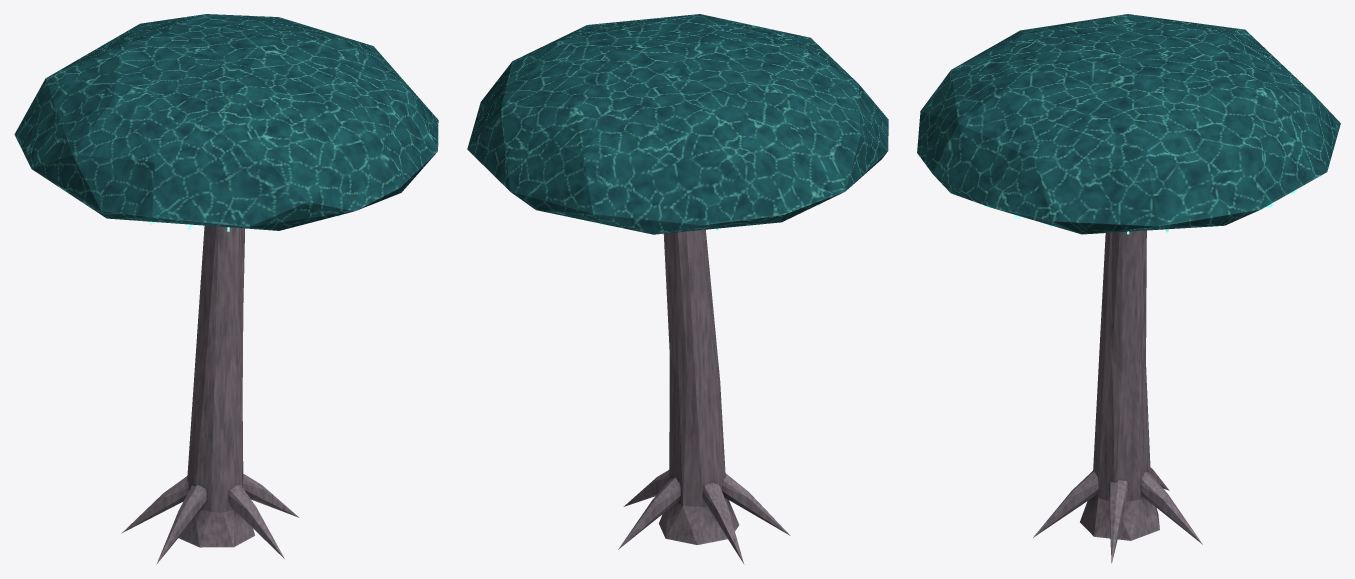
The model's file is underworld-flora-fungal-glowcap.glb.
3 renders of one model, left to right at view 1: azimuth 30°, elevation 25°; view 2: azimuth 150°, elevation 25°; view 3: azimuth 270°, elevation 25°, orthographic.
Visible parts, largest first — view 1: cap, stalk, roots; view 2: cap, stalk, roots; view 3: cap, stalk, roots.
Boxes of the visible parts, bbox=[...] form: cap: bbox=[14, 14, 438, 230]; stalk: bbox=[178, 225, 254, 547]; roots: bbox=[121, 474, 299, 564]; cap: bbox=[467, 14, 888, 234]; stalk: bbox=[659, 229, 739, 544]; roots: bbox=[618, 470, 790, 564]; cap: bbox=[917, 14, 1340, 234]; stalk: bbox=[1080, 230, 1159, 540]; roots: bbox=[1033, 467, 1202, 563].
Bounding box in the file's own units: 6.43 × 7.94 × 6.41.
Materials: 3 (3 with a texture image).
